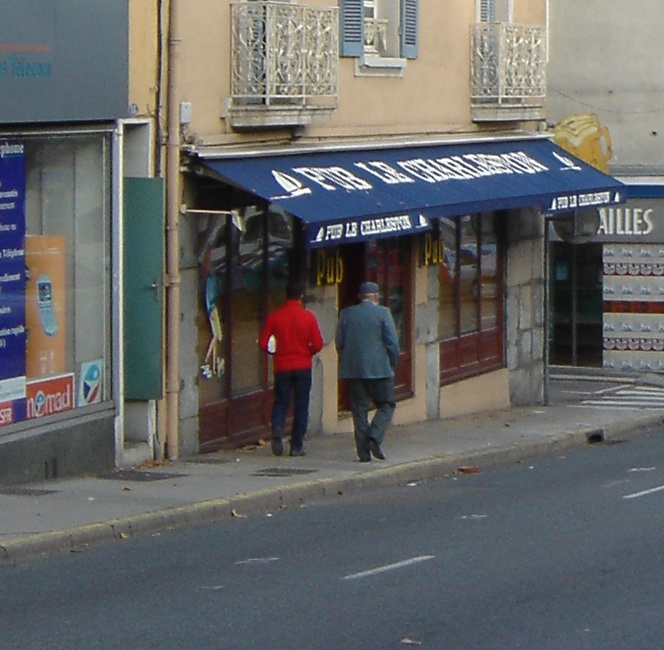person: (258, 281, 324, 457), (339, 281, 400, 459)
